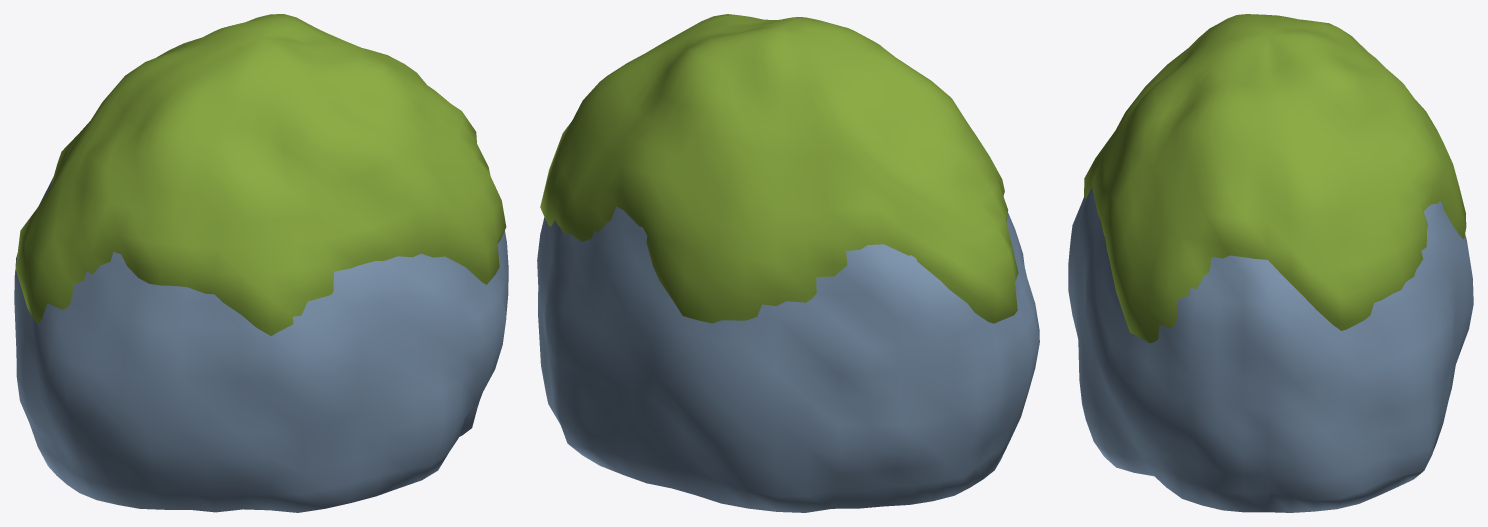
File: GROVE_BOULDER_MOSSY.glb
The picture shows the model from 3 angles, left to right: view 1: azimuth 30°, elevation 25°; view 2: azimuth 150°, elevation 25°; view 3: azimuth 270°, elevation 25°; orthographic projection. The views are drawn at different scales.
Parts seen in each view (by area): view 1: moss_cap, boulder; view 2: boulder, moss_cap; view 3: moss_cap, boulder.
Part boxes in pixels (bbox=[...]): moss_cap: bbox=[15, 14, 506, 335]; boulder: bbox=[14, 177, 508, 512]; boulder: bbox=[537, 206, 1039, 512]; moss_cap: bbox=[540, 14, 1018, 323]; moss_cap: bbox=[1084, 14, 1466, 342]; boulder: bbox=[1068, 187, 1473, 512].
Bounding box in the file's own units: 10.18 × 8.58 × 8.14.
